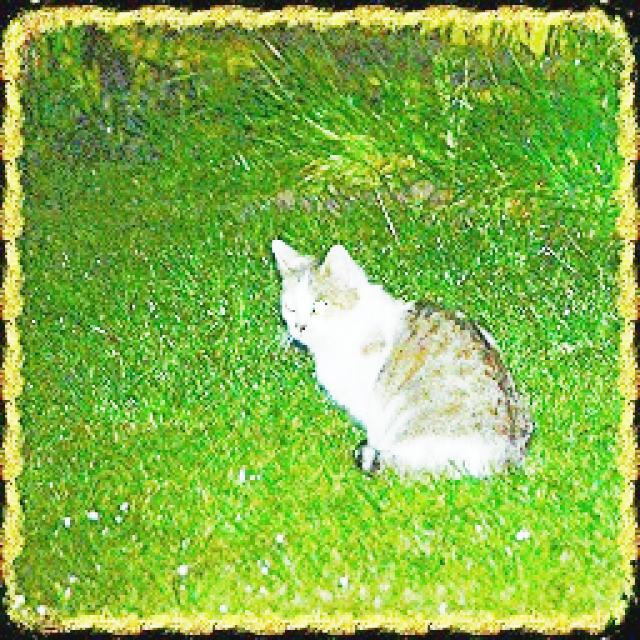cat: (269, 239, 536, 482)
